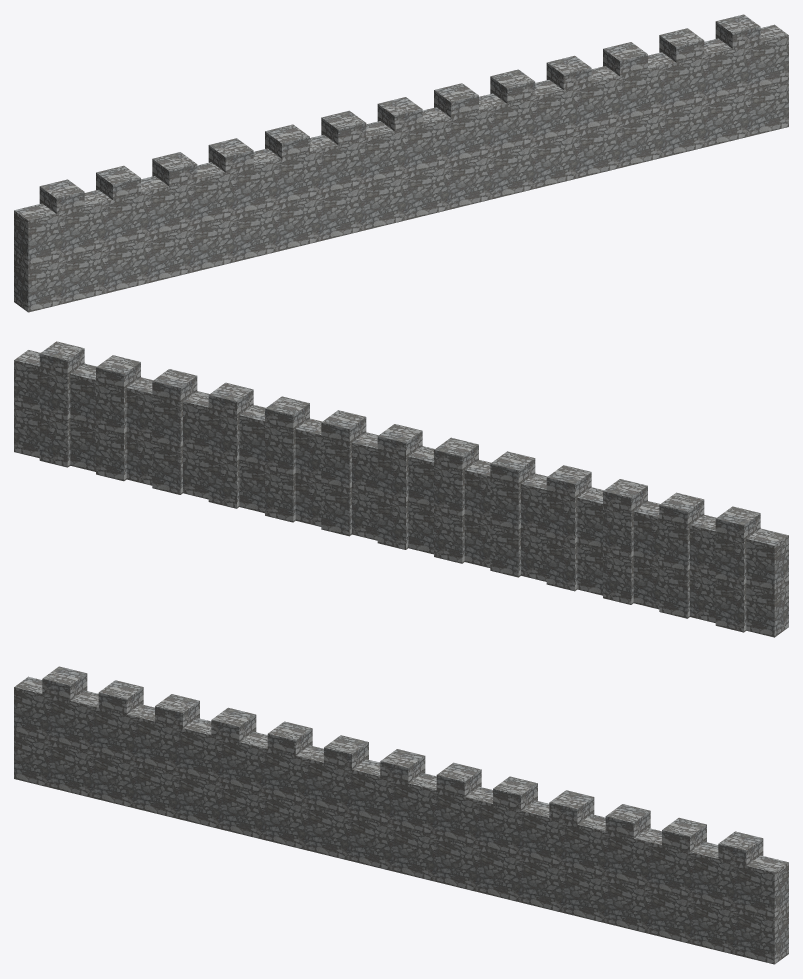
Rendered from N-Stena.fbx.
The picture shows the model from 3 angles, top to bottom: view 1: azimuth 30°, elevation 25°; view 2: azimuth 150°, elevation 25°; view 3: azimuth 330°, elevation 25°; orthographic projection.
Parts seen in each view (by area): view 1: Cube.001; view 2: Cube.001; view 3: Cube.001.
Part boxes in pixels (x1,y1,x2,y2): Cube.001: (14, 14, 788, 312); Cube.001: (14, 341, 788, 637); Cube.001: (14, 666, 788, 964).
Bounding box in the file's own units: 5204 × 700 × 200.
